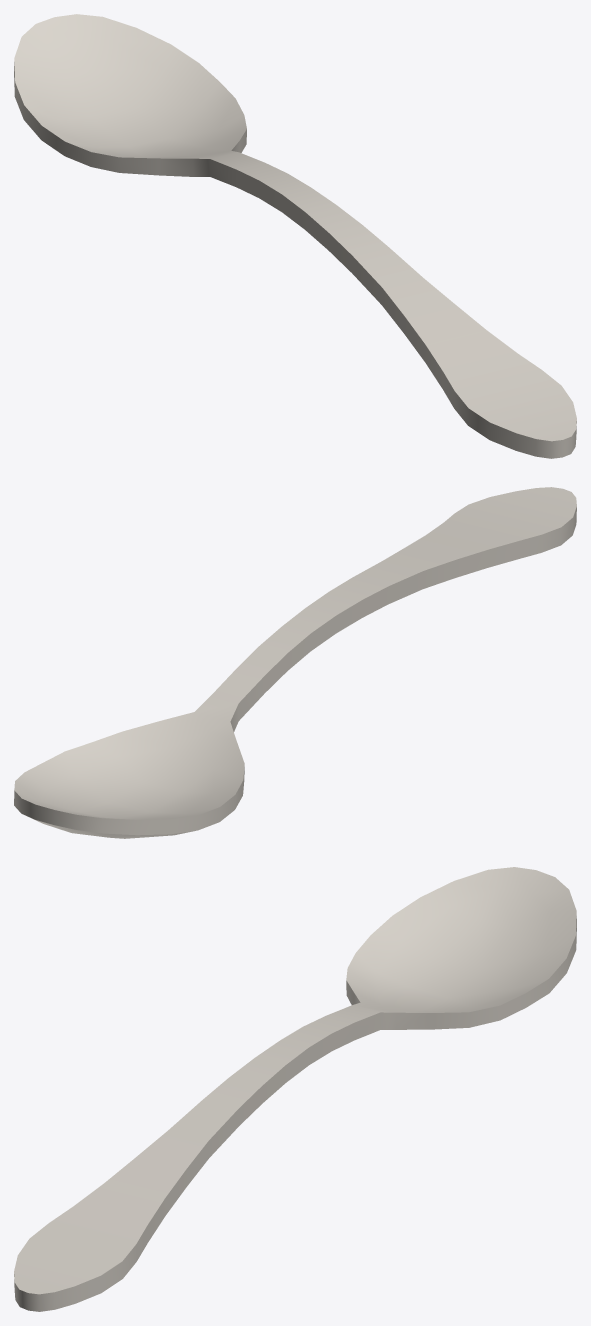
File: M_Spoon_01.FBX
The picture shows the model from 3 angles, top to bottom: view 1: azimuth 30°, elevation 25°; view 2: azimuth 150°, elevation 25°; view 3: azimuth 330°, elevation 25°; orthographic projection.
Visible parts, largest first — view 1: M_Spoon_01; view 2: M_Spoon_01; view 3: M_Spoon_01.
Part boxes in pixels (x1,y1,x2,y2): M_Spoon_01: (14,14,576,458); M_Spoon_01: (14,487,576,838); M_Spoon_01: (14,867,576,1311).
Size of the model in its own units: 3.51 by 17.35 by 1.36.
